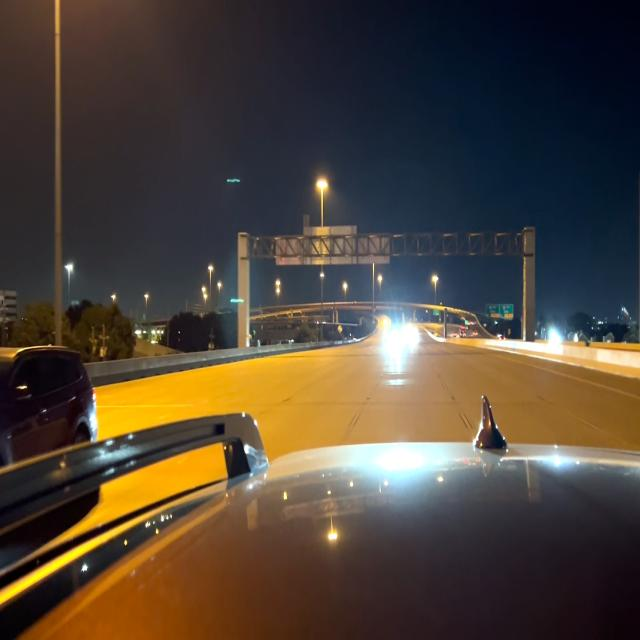back-of-sign: (275, 215, 390, 262)
